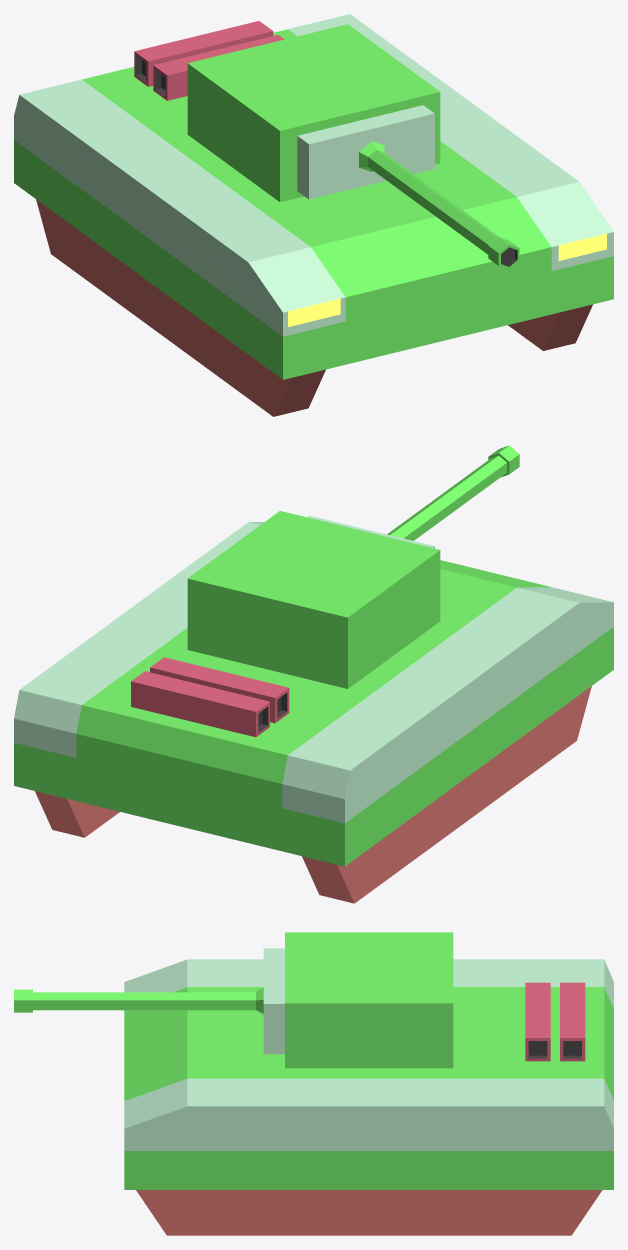
The model's file is Tank_.fbx.
3 renders of one model, top to bottom at view 1: azimuth 30°, elevation 25°; view 2: azimuth 150°, elevation 25°; view 3: azimuth 270°, elevation 25°, orthographic. The views are drawn at different scales.
Visible parts, largest first — view 1: Cube, Cube.001, Cube.002; view 2: Cube, Cube.001, Cube.002; view 3: Cube, Cube.001, Cube.002.
Boxes of the visible parts, x1,y1,x2,y2 form: Cube: (14, 14, 613, 416); Cube.001: (187, 24, 519, 269); Cube.002: (134, 21, 284, 100); Cube: (14, 522, 613, 903); Cube.001: (187, 445, 519, 688); Cube.002: (131, 657, 289, 737); Cube: (124, 959, 613, 1235); Cube.001: (14, 932, 453, 1068); Cube.002: (525, 982, 585, 1061).
Bounding box in the file's own units: 213 × 136 × 368.
